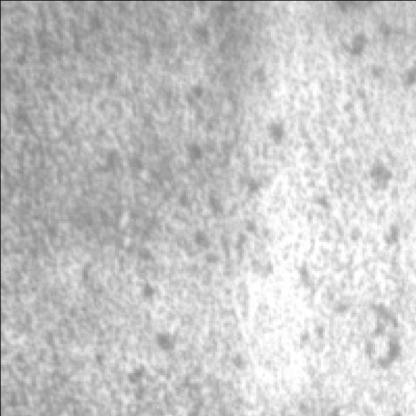pitted_surface: (2, 0, 291, 366), (232, 35, 416, 388)
